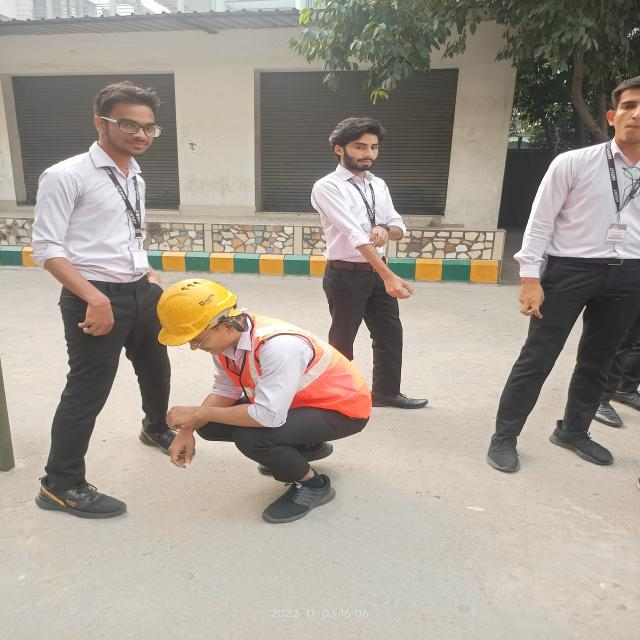safe: (159, 276, 374, 526)
unsafe: (34, 82, 179, 519), (491, 76, 640, 474), (311, 119, 428, 410)
